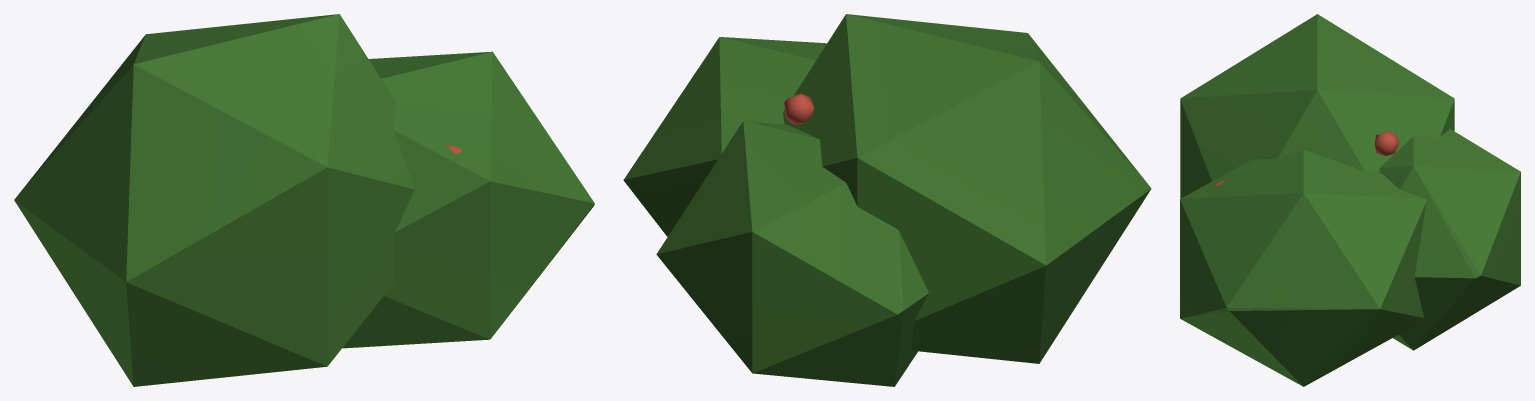
The model's file is prop_bushBerry_lod2.glb.
3 views of the same model, side by side, from view 1: azimuth 30°, elevation 25°; view 2: azimuth 150°, elevation 25°; view 3: azimuth 270°, elevation 25° (orthographic). The views are drawn at different scales.
Parts seen in each view (by area): view 1: prop_bushBerry_lod2; view 2: prop_bushBerry_lod2; view 3: prop_bushBerry_lod2.
Part boxes in pixels (x1=…): prop_bushBerry_lod2: x1=14, y1=14, x2=594, y2=386; prop_bushBerry_lod2: x1=623, y1=14, x2=1151, y2=386; prop_bushBerry_lod2: x1=1180, y1=14, x2=1520, y2=386.
Size of the model in its own units: 1.77 by 1.18 by 1.49.
